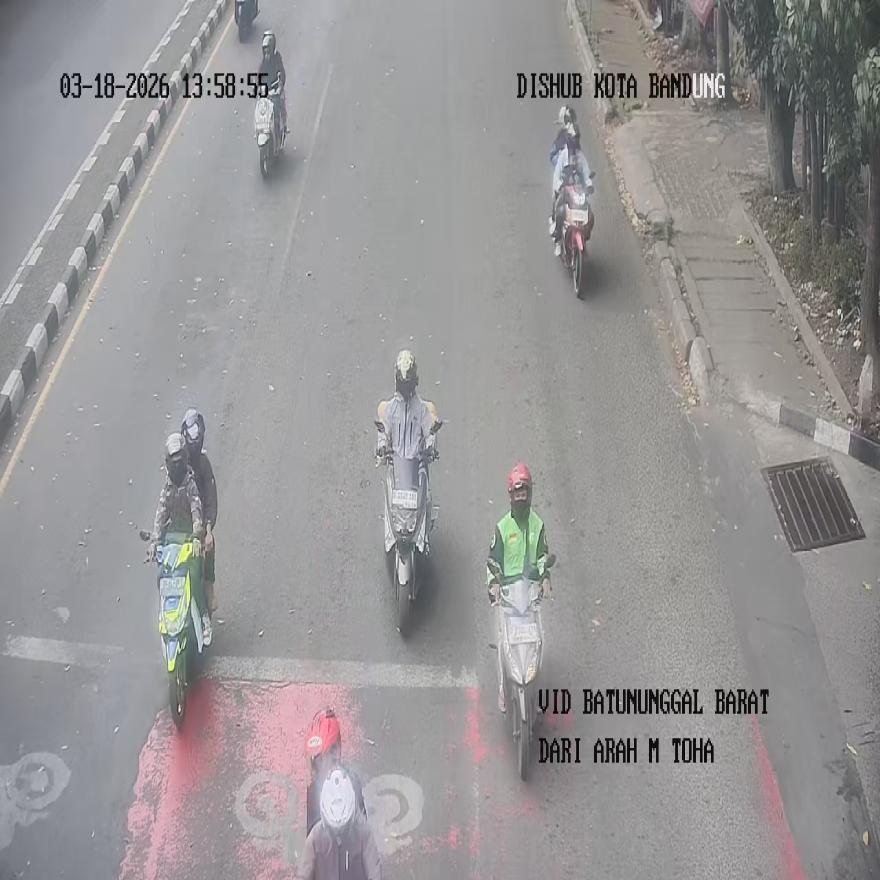Motor: (374, 404, 441, 630), (488, 555, 553, 781), (144, 530, 206, 730), (305, 706, 366, 838), (558, 167, 594, 296), (254, 78, 286, 177), (234, 0, 257, 40)
